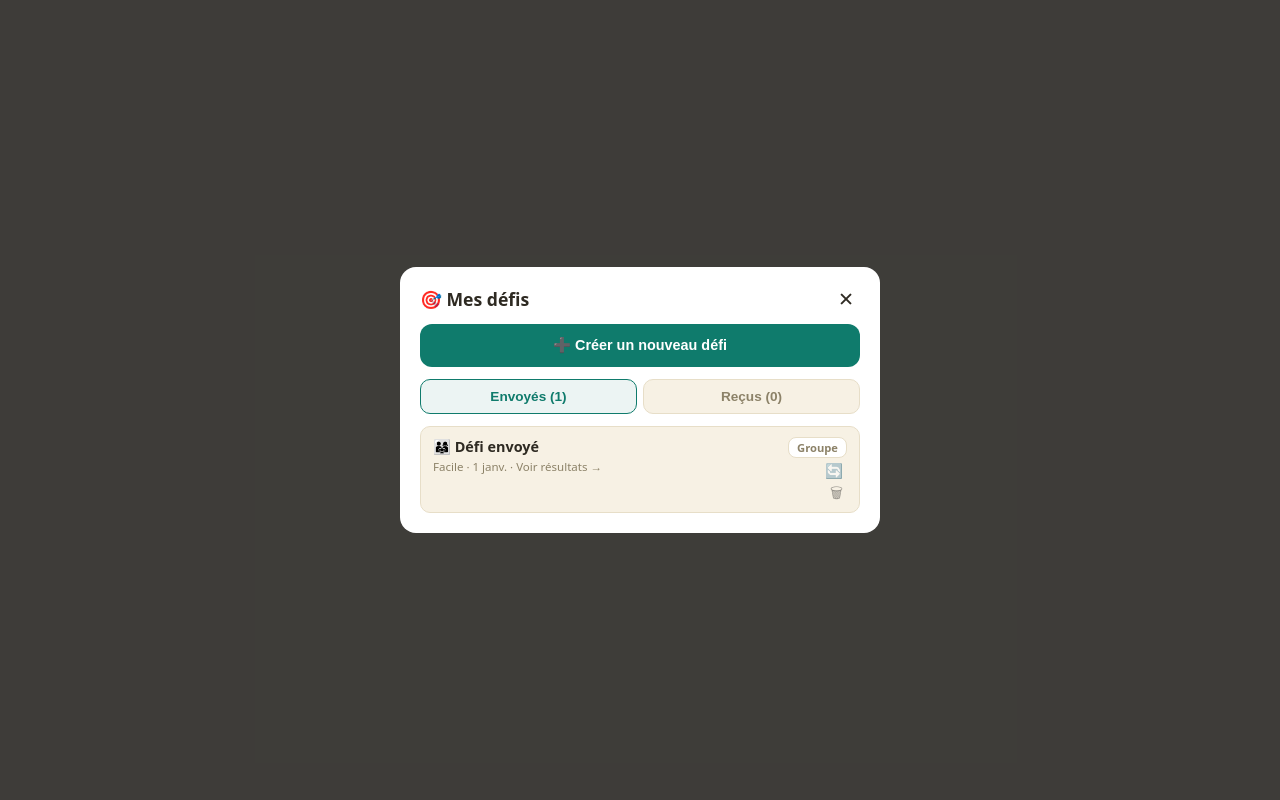
Scenario: DefiDashboard — défi de groupe sans score initial du challenger › affiche le résultat de l'expéditeur quand il a joué via son propre lien (rematch_results contient sa ligne)
Click the element with class "defi-row" at (640, 470), box [420,426,860,513]
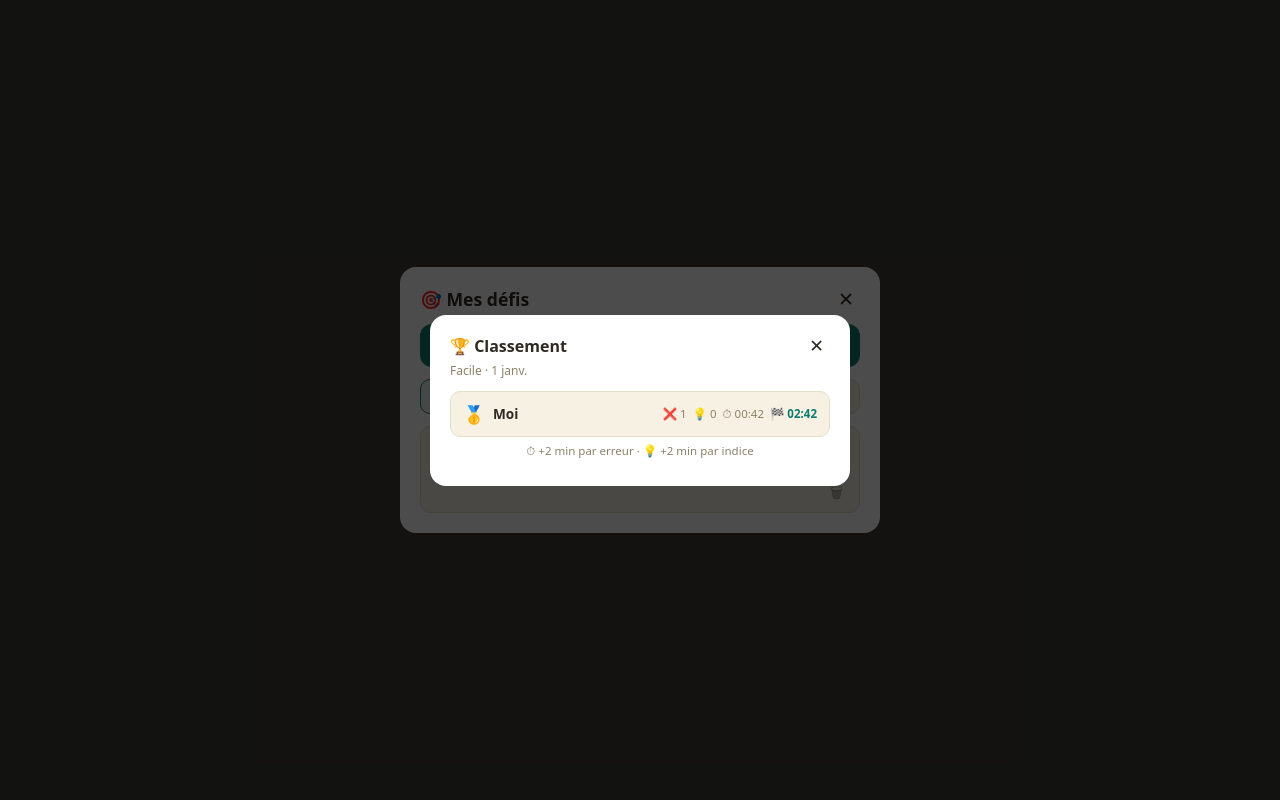
expect the text "Moi" is shown: met, box [493,404,518,423]
